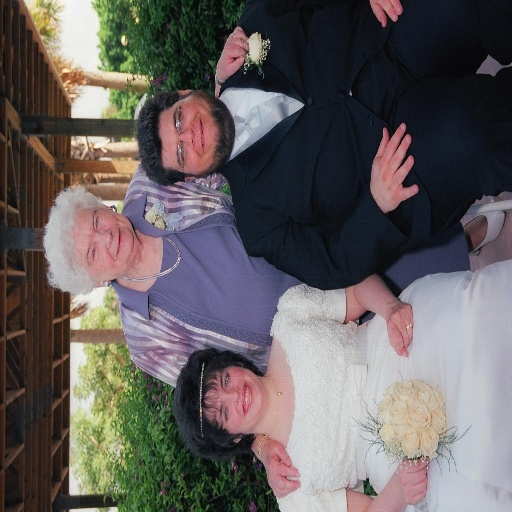hand: (368, 121, 419, 217), (260, 439, 300, 497), (383, 296, 413, 360), (215, 26, 249, 81), (396, 454, 429, 505), (369, 0, 403, 28)
